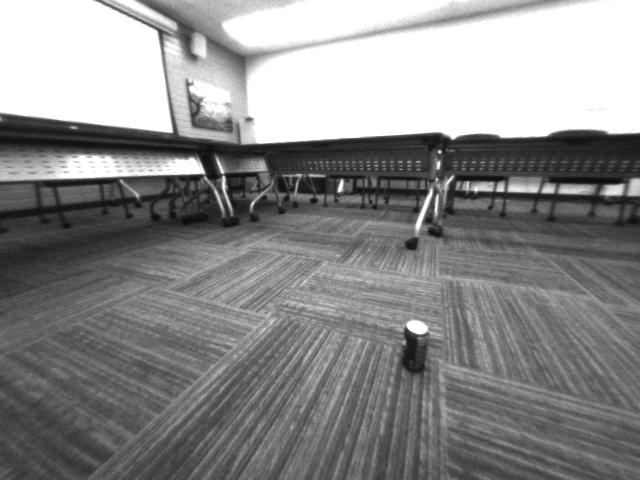can: (397, 314, 435, 384)
